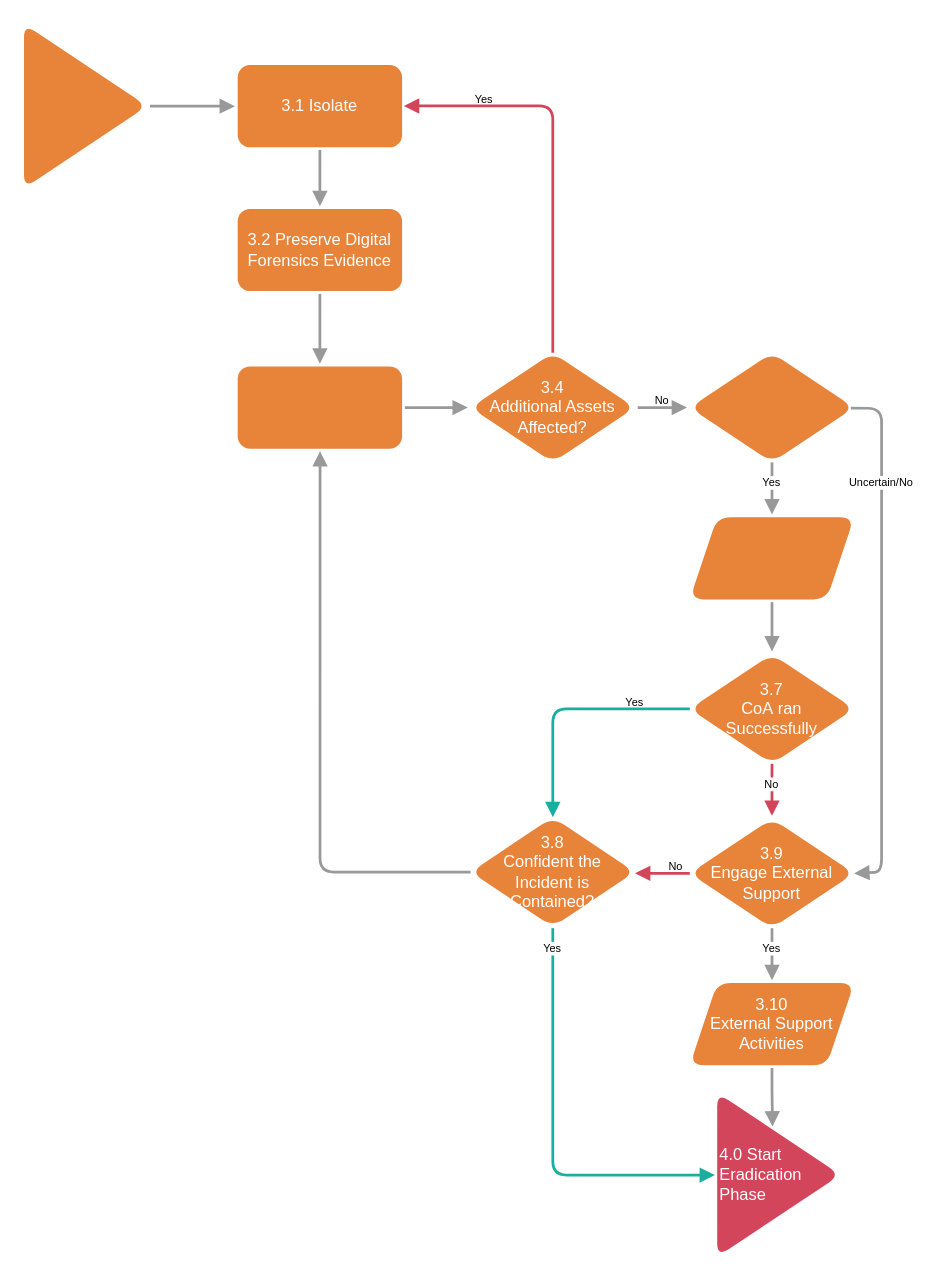
Some shapes in this 945 by 1280 pixel diagram are drawn without their labels. The centre of each missing label's shape, as x and y in pixels:
3.0 Start Containment Phase: point (85, 105)
3.3 Continue Investigation: point (319, 407)
3.5 Data Exfiltration Occured?: point (771, 407)
3.6 Execute Data Breach/Data Loss CoA: point (771, 557)
